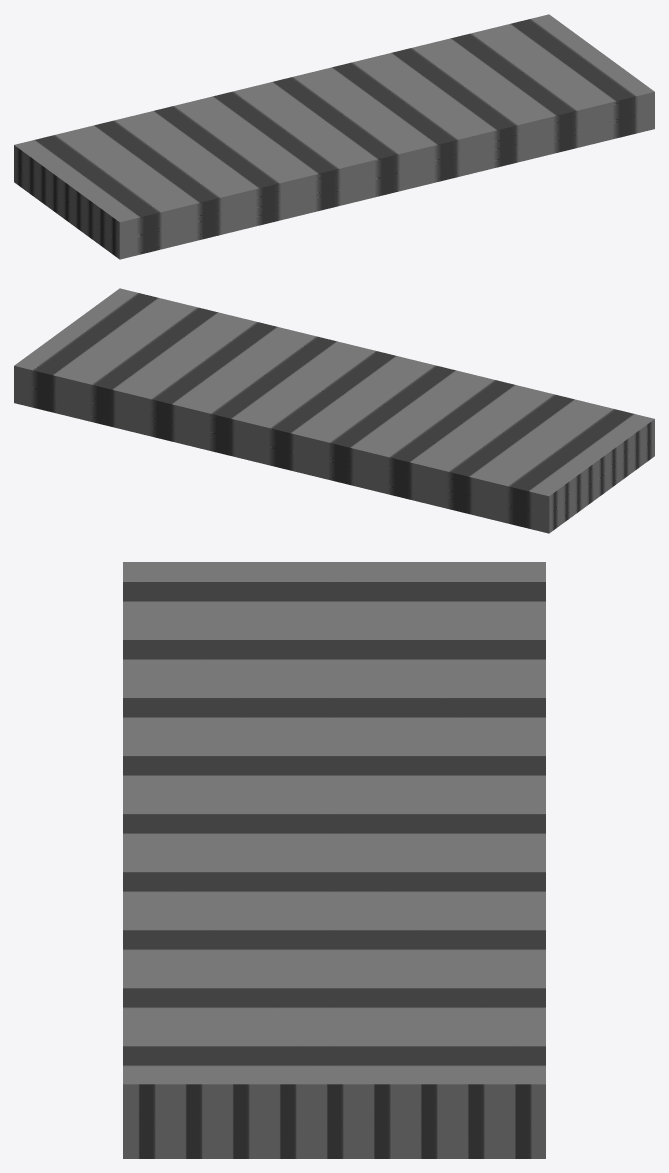
File: CalculatorHandle.glb
3 renders of one model, top to bottom at view 1: azimuth 30°, elevation 25°; view 2: azimuth 150°, elevation 25°; view 3: azimuth 270°, elevation 25°, orthographic. The views are drawn at different scales.
Parts seen in each view (by area): view 1: Box 2; view 2: Box 2; view 3: Box 2.
Boxes of the visible parts, x1=… form: Box 2: x1=14, y1=14, x2=654, y2=259; Box 2: x1=14, y1=288, x2=654, y2=533; Box 2: x1=123, y1=562, x2=545, y2=1158.
Bounding box in the file's own units: 0.4018 × 0.0267 × 0.1376.
1 material, 1 textured.
